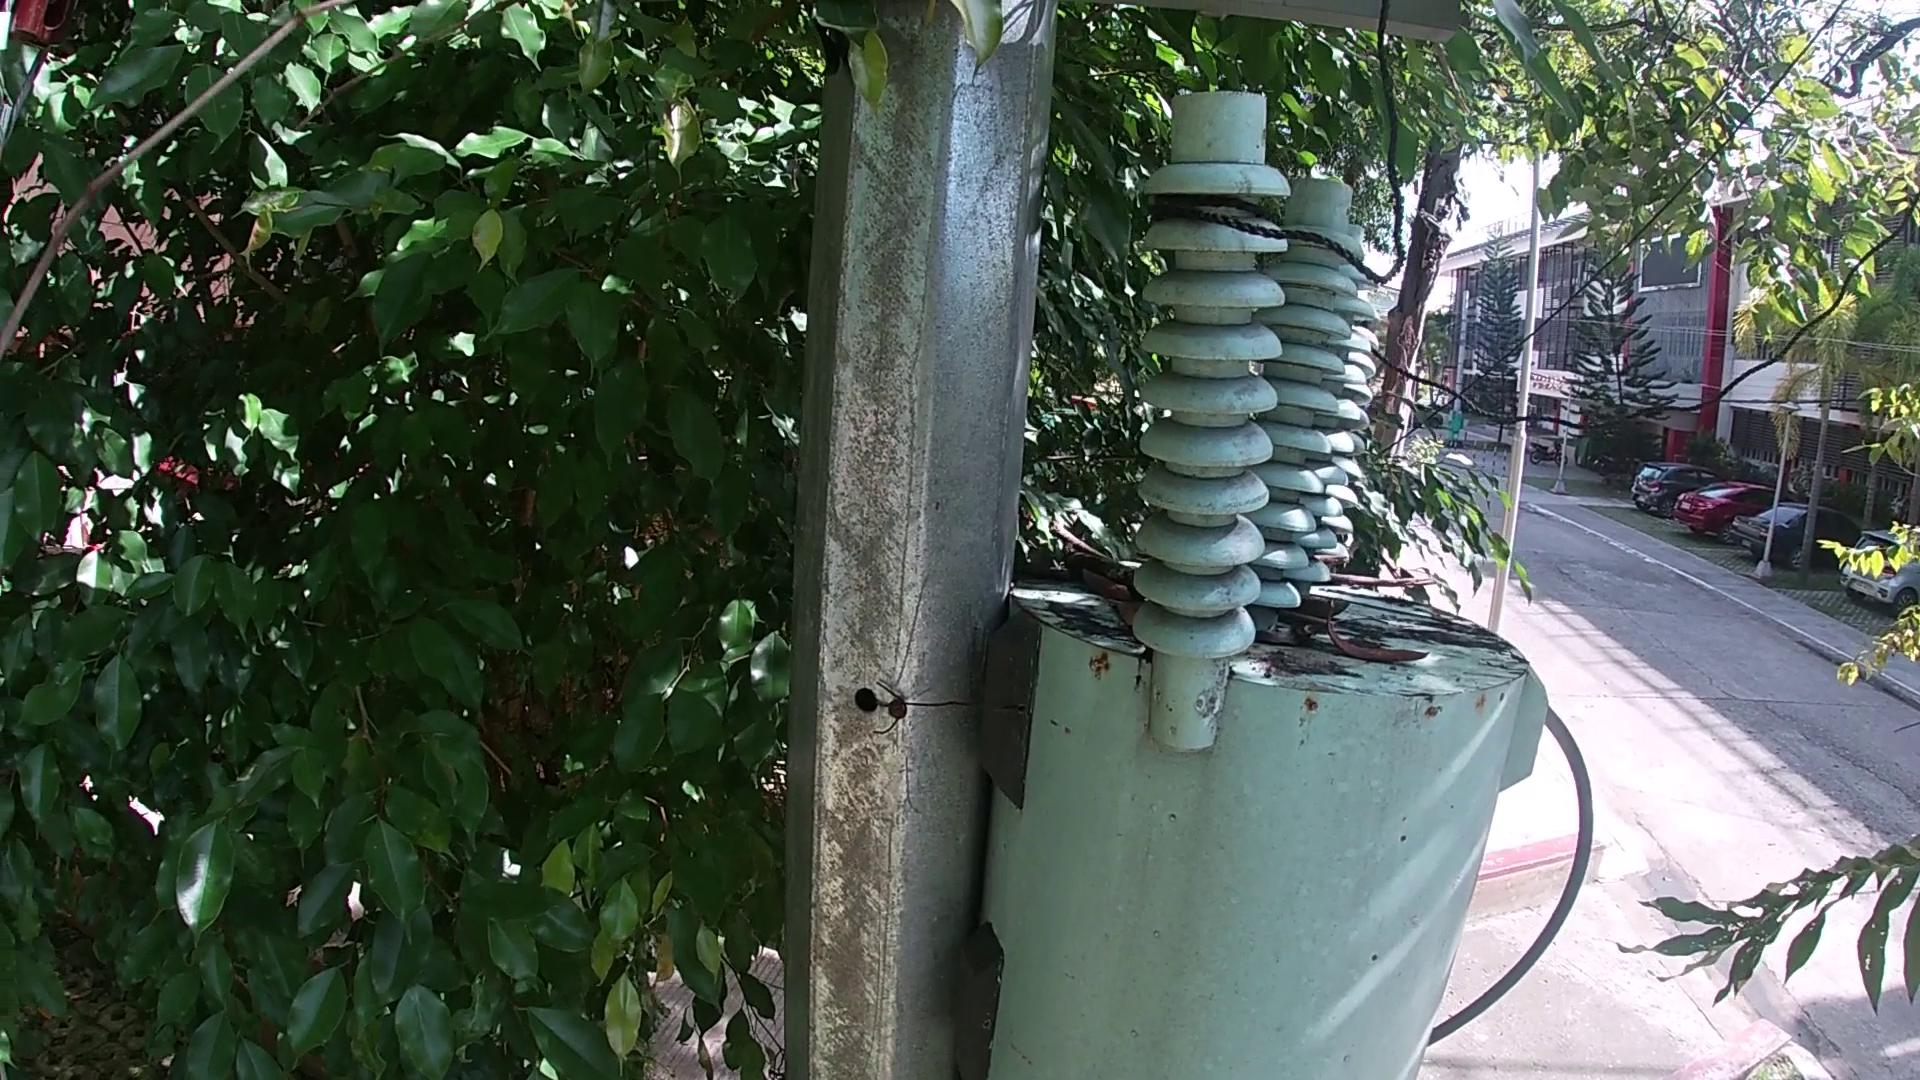leaf: (1106, 600, 1135, 645), (1262, 622, 1298, 642)
mahogany fruit: (1320, 617, 1424, 665), (1282, 593, 1349, 620)
tree branch: (1048, 522, 1127, 564), (1056, 545, 1134, 580), (1320, 572, 1462, 591)
